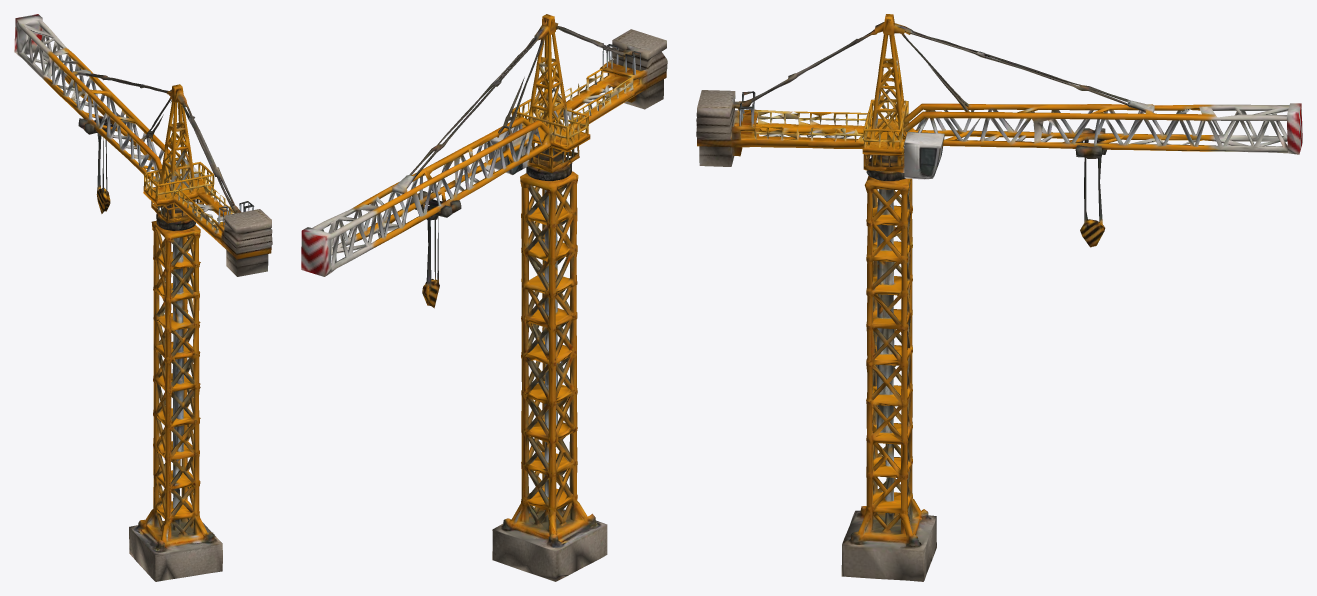
Rendered from teluk-crane.glb.
The picture shows the model from 3 angles, left to right: view 1: azimuth 30°, elevation 25°; view 2: azimuth 150°, elevation 25°; view 3: azimuth 270°, elevation 25°; orthographic projection. The views are drawn at different scales.
Visible parts, largest first — view 1: teluk-crane; view 2: teluk-crane; view 3: teluk-crane.
Part boxes in pixels (x1,y1,x2,y2): teluk-crane: (14,14,272,581); teluk-crane: (301,14,667,581); teluk-crane: (696,14,1302,581).
Size of the model in its own units: 8.37 by 49.74 by 50.
Materials: 1 (1 with a texture image).
